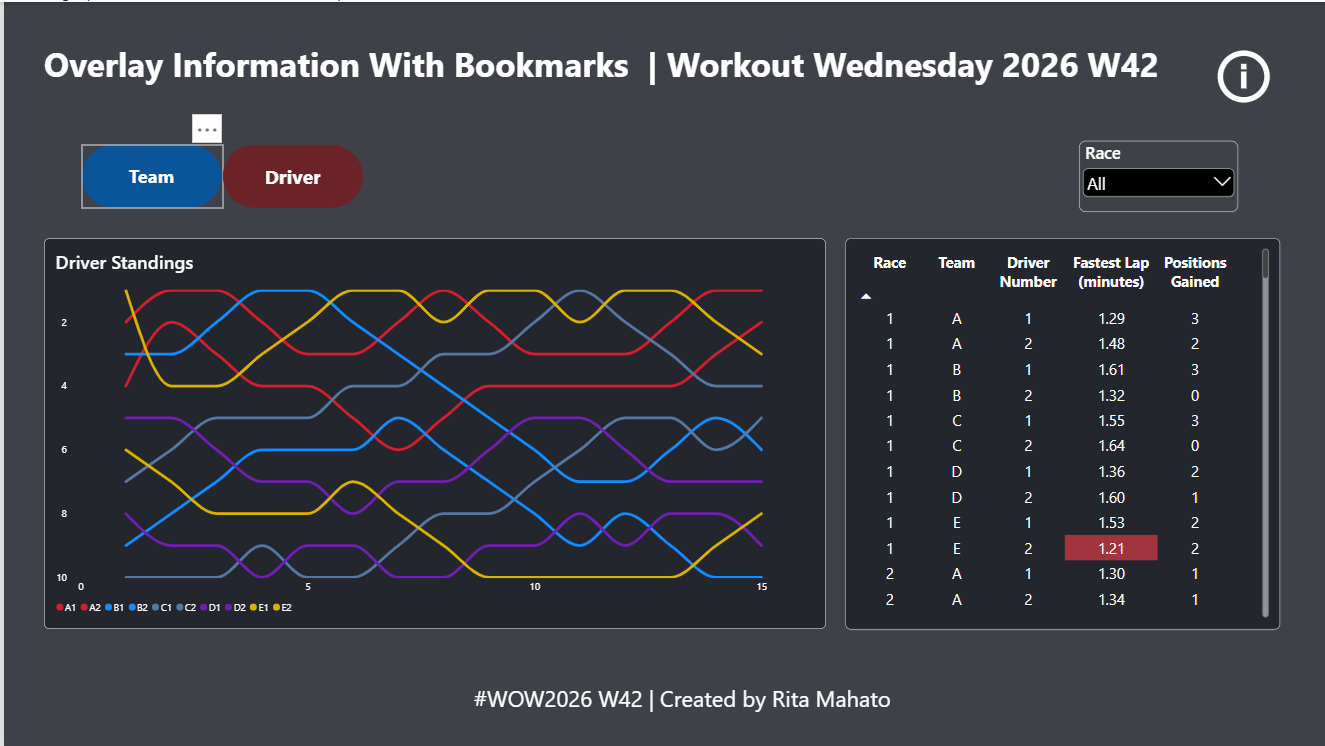

This screenshot's page, from the dashboard's own definition file:
{"tool":"powerbi","page":{"name":"Overlay Info with Bookmarks","canvas":[1920,1080],"ordinal":0},"visuals":[{"type":"tableEx","fields":{"Values":["Standings.Race","Standings.Team","Standings.Driver Number","Standings.Fastest Lap (minutes)","Standings.Positions Gained"]},"box":[1218.5,341.7,629.8,566],"z":0},{"type":"textbox","box":[57.6,55.6,1790.7,131.7],"z":1000},{"type":"slicer","title":"Race","fields":{"Values":["Standings.Race"]},"box":[1556.1,201.7,230.5,102.9],"z":2000},{"type":"actionButton","title":"TEAM","box":[113,206.8,203,91.9],"z":4000},{"type":"actionButton","title":"DRIVER","box":[315.9,206.8,203,91.9],"z":5000},{"type":"lineChart","title":"Driver Standings","fields":{"Category":["Standings.Race"],"Series":["Standings.Driver ID"],"Y":["Min(Standings.Driver Standings)"]},"box":[57.6,341.5,1131.6,565.8],"z":6000},{"type":"actionButton","title":"Info ON","box":[1742.9,54.5,103.9,106.5],"z":8000}]}

Visuals, with their boxes in screenshot pixels (x1, y1, x2, y2), scaled from the page's 1920x1080 canvas onto the 1325x746 screenshot:
tableEx - Standings.Race x Standings.Team: [x1=841, y1=236, x2=1276, y2=627]
textbox: [x1=40, y1=38, x2=1276, y2=129]
"Race" slicer: [x1=1074, y1=139, x2=1233, y2=210]
"TEAM" actionButton: [x1=78, y1=143, x2=218, y2=206]
"DRIVER" actionButton: [x1=218, y1=143, x2=358, y2=206]
"Driver Standings" lineChart: [x1=40, y1=236, x2=821, y2=627]
"Info ON" actionButton: [x1=1203, y1=38, x2=1274, y2=111]
